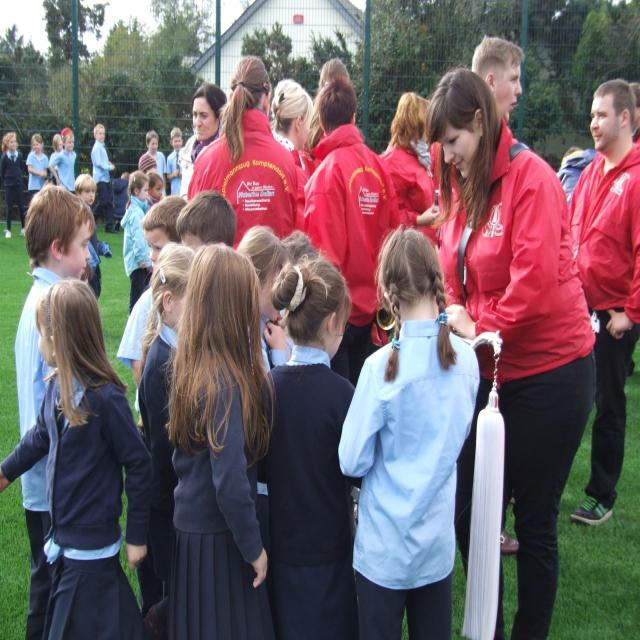body: (421, 63, 601, 639), (335, 223, 481, 639), (0, 277, 158, 639), (160, 241, 278, 639), (254, 250, 360, 639), (13, 182, 96, 640), (300, 76, 402, 388), (569, 78, 639, 527), (189, 56, 301, 249), (304, 76, 368, 390), (137, 239, 191, 583), (377, 90, 443, 252), (234, 223, 296, 379), (176, 80, 228, 204), (74, 172, 112, 301), (470, 36, 524, 124), (269, 77, 315, 180), (120, 169, 152, 314), (174, 187, 238, 250), (139, 194, 189, 273), (90, 122, 118, 234), (554, 145, 598, 210), (0, 131, 26, 239), (49, 126, 78, 195), (25, 133, 50, 210), (144, 129, 168, 198), (278, 225, 316, 262), (166, 126, 184, 197), (111, 172, 130, 231), (48, 132, 64, 186), (144, 169, 164, 212), (628, 77, 640, 144), (138, 153, 158, 175)
